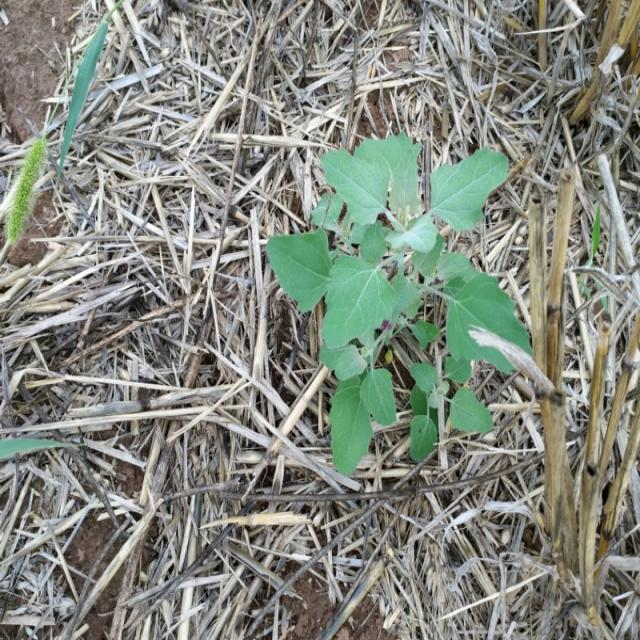goosefoots: (280, 118, 526, 477)
